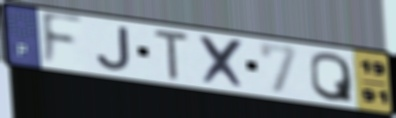7: (256, 41, 304, 98)
F: (40, 10, 87, 69)
J: (94, 26, 134, 73)
Q: (309, 51, 356, 104)
T: (152, 27, 192, 82)
X: (197, 33, 249, 92)
